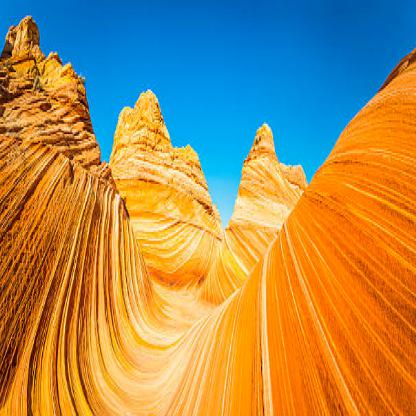Sedimentary_Sandstone: (171, 142, 213, 216), (133, 82, 164, 172), (249, 113, 276, 179), (282, 158, 306, 196)
